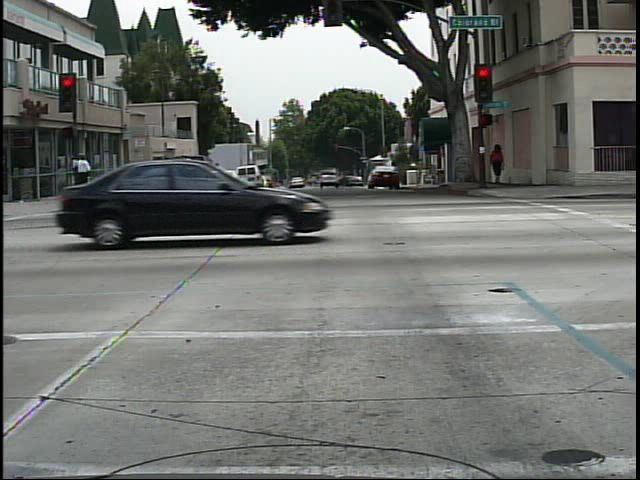person: (67, 147, 95, 209), (488, 137, 513, 191)
